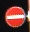No entry: (5, 5, 25, 27)
